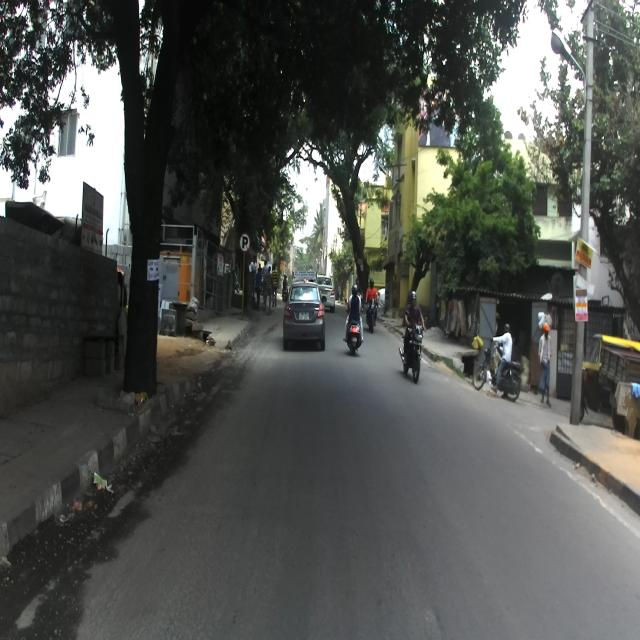car ahead at: (280, 281, 327, 352)
motorcycle ahead at: (399, 320, 428, 384)
sign board ahead at: (236, 230, 251, 258)
tree ahead at: (118, 46, 170, 391)
